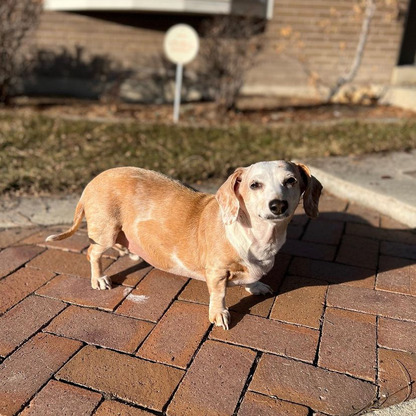dachshund: (39, 123, 335, 338)
